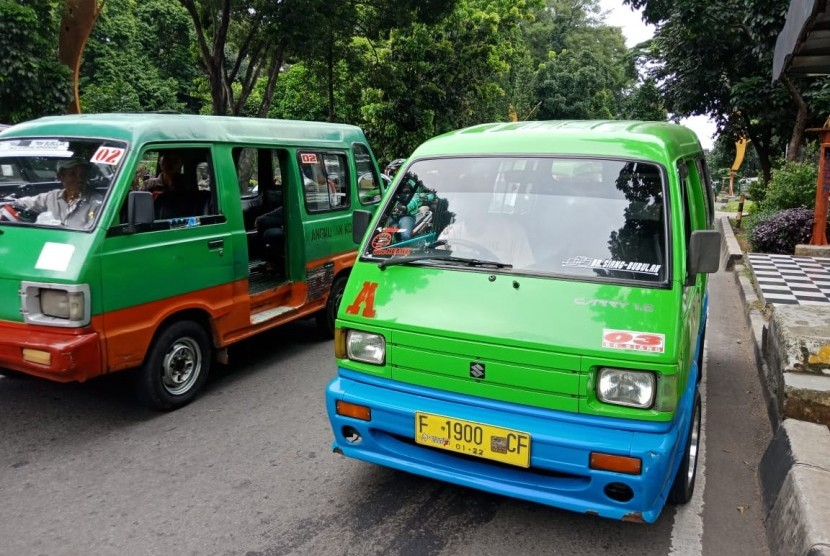plate: (416, 407, 530, 468)
